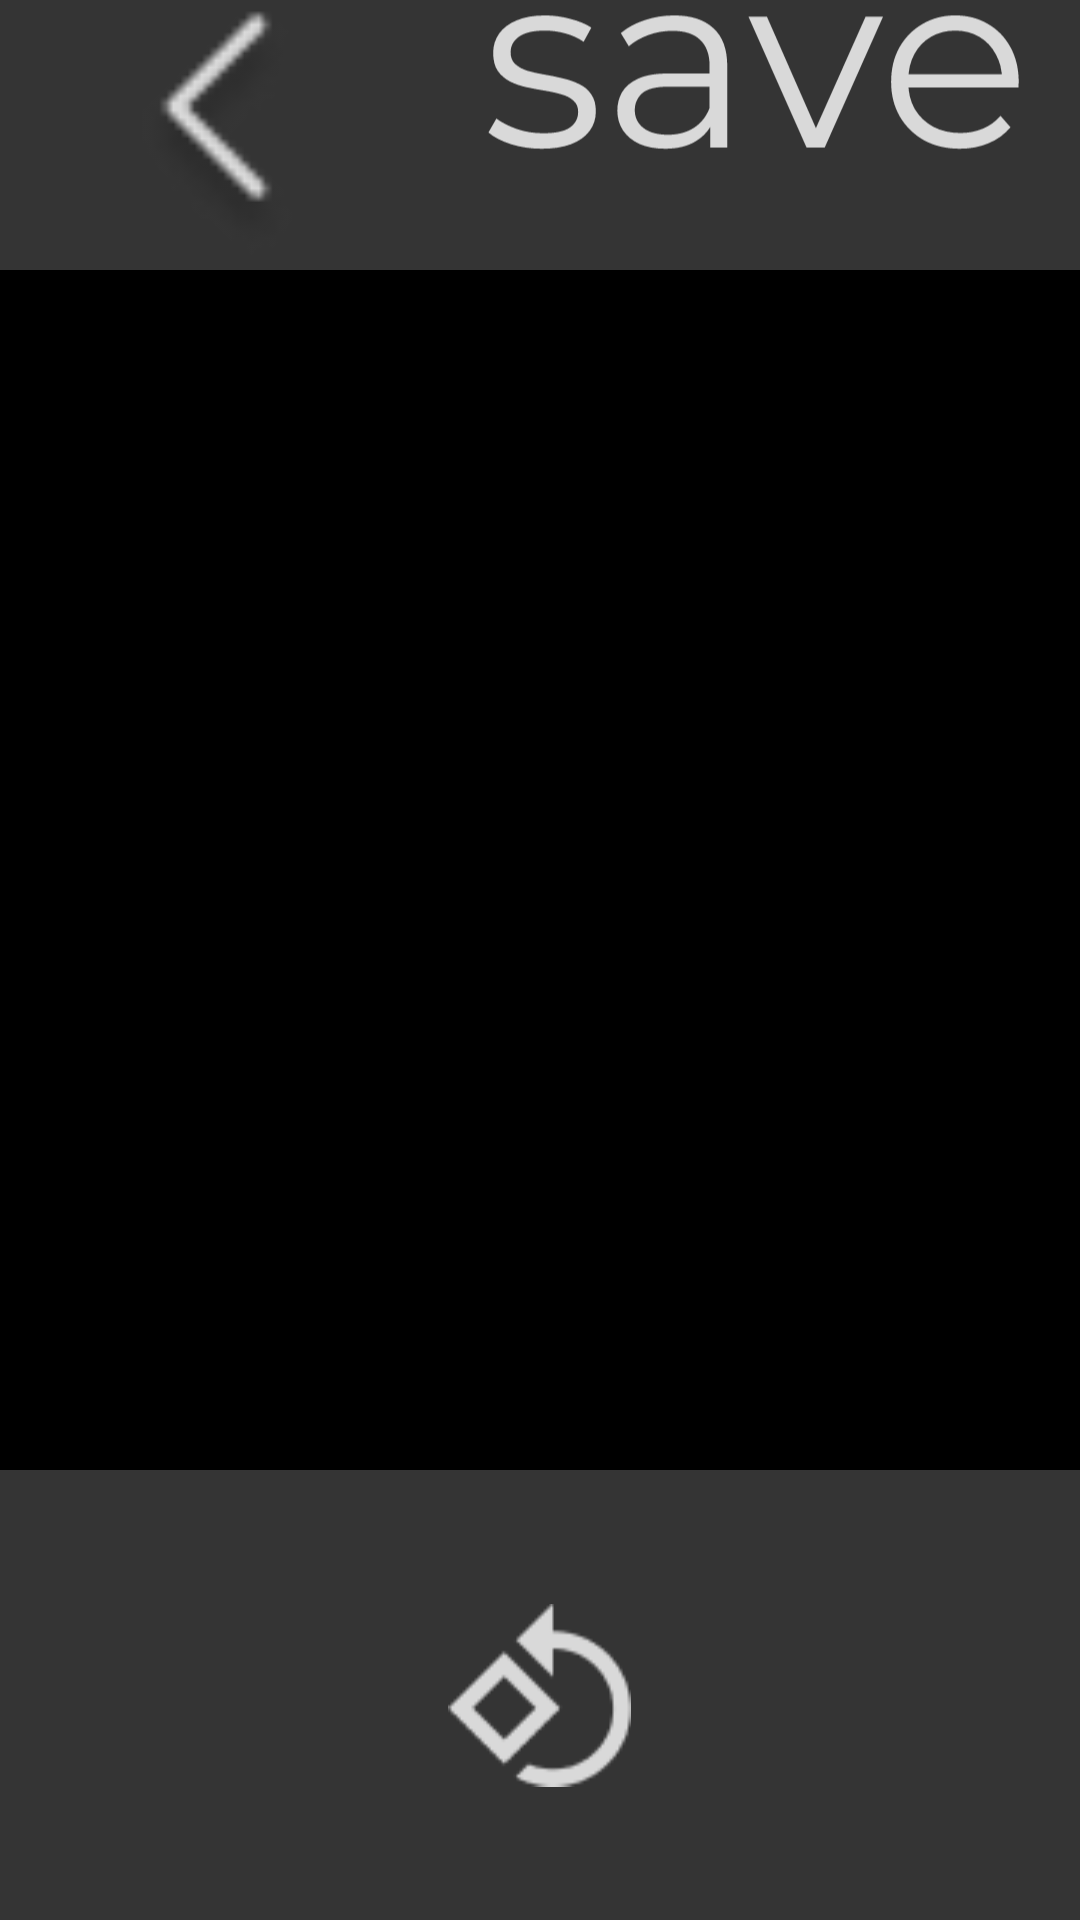

Screen size 1080*1920. Icon name, then its center in pixels as point (x, y):
back: point (216, 106)
rotate layout: point (539, 1695)
